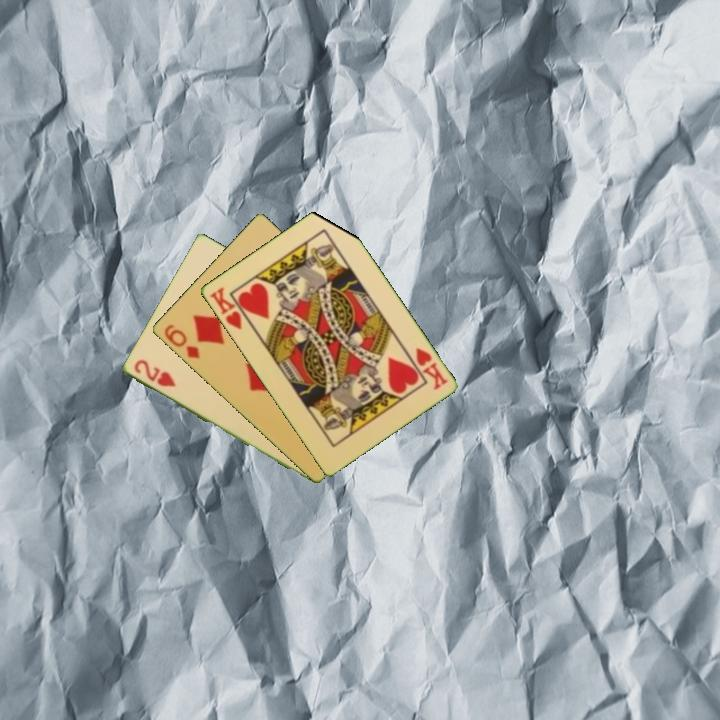2h: (130, 356, 179, 390)
6d: (160, 321, 203, 362)
Kh: (206, 283, 253, 333), (412, 344, 450, 393)
